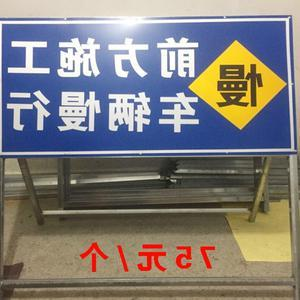sign: (1, 16, 291, 153)
